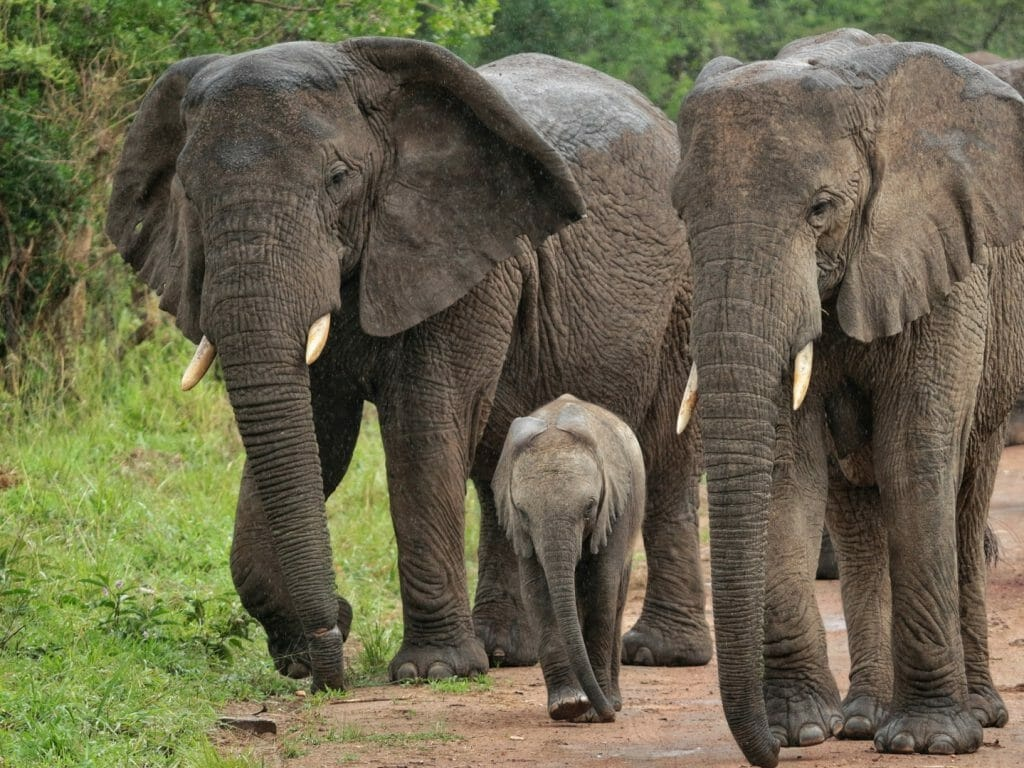elephant: (99, 33, 714, 708), (669, 21, 1023, 767), (488, 391, 656, 731)
